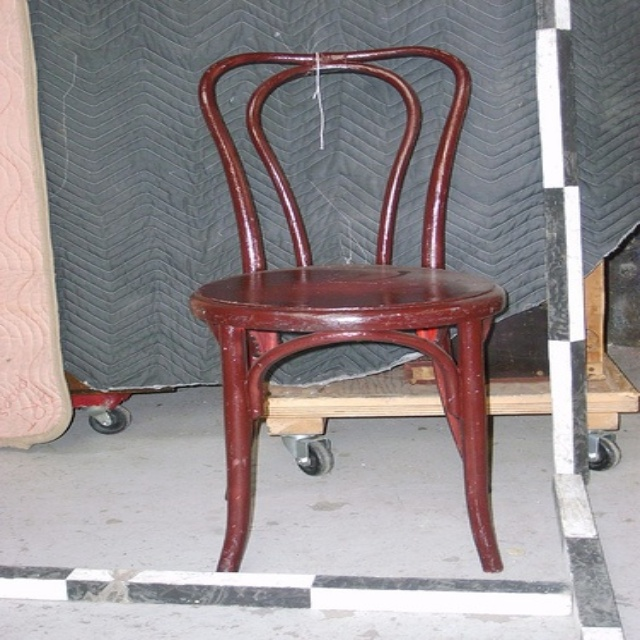obstacle: (191, 46, 503, 571)
